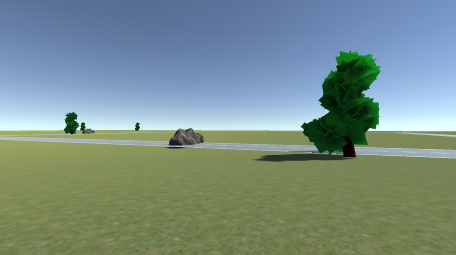rock: (168, 128, 206, 147)
tree: (303, 49, 381, 158), (63, 111, 79, 135), (133, 121, 140, 132)
